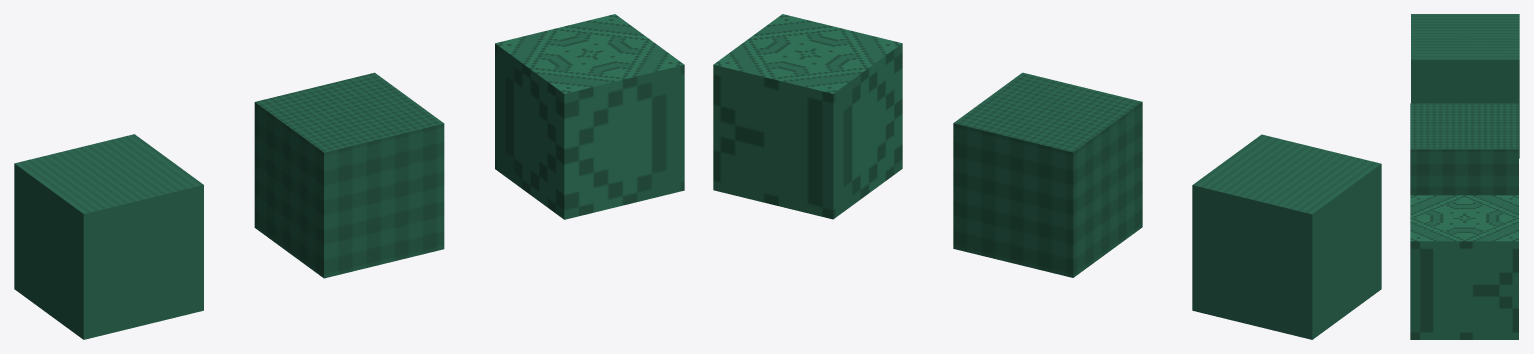
The model's file is FloorBlocksV1.glb.
3 views of the same model, side by side, from view 1: azimuth 30°, elevation 25°; view 2: azimuth 150°, elevation 25°; view 3: azimuth 270°, elevation 25° (orthographic). The views are drawn at different scales.
Parts seen in each view (by area): view 1: Floor_Gingham, Floor_Generic, Floor_Fancy; view 2: Floor_Generic, Floor_Gingham, Floor_Fancy; view 3: Floor_Fancy, Floor_Gingham, Floor_Generic.
Boxes of the visible parts, x1,y1,x2,y2 form: Floor_Gingham: (254, 72, 444, 278); Floor_Generic: (14, 134, 203, 339); Floor_Fancy: (495, 14, 684, 219); Floor_Generic: (1192, 134, 1381, 339); Floor_Gingham: (953, 72, 1142, 277); Floor_Fancy: (713, 14, 902, 219); Floor_Fancy: (1410, 195, 1518, 339); Floor_Gingham: (1410, 103, 1518, 195); Floor_Generic: (1411, 14, 1519, 158).
Bounding box in the file's own units: 9.99 × 2.05 × 2.01.
Materials: 4 (3 with a texture image).
